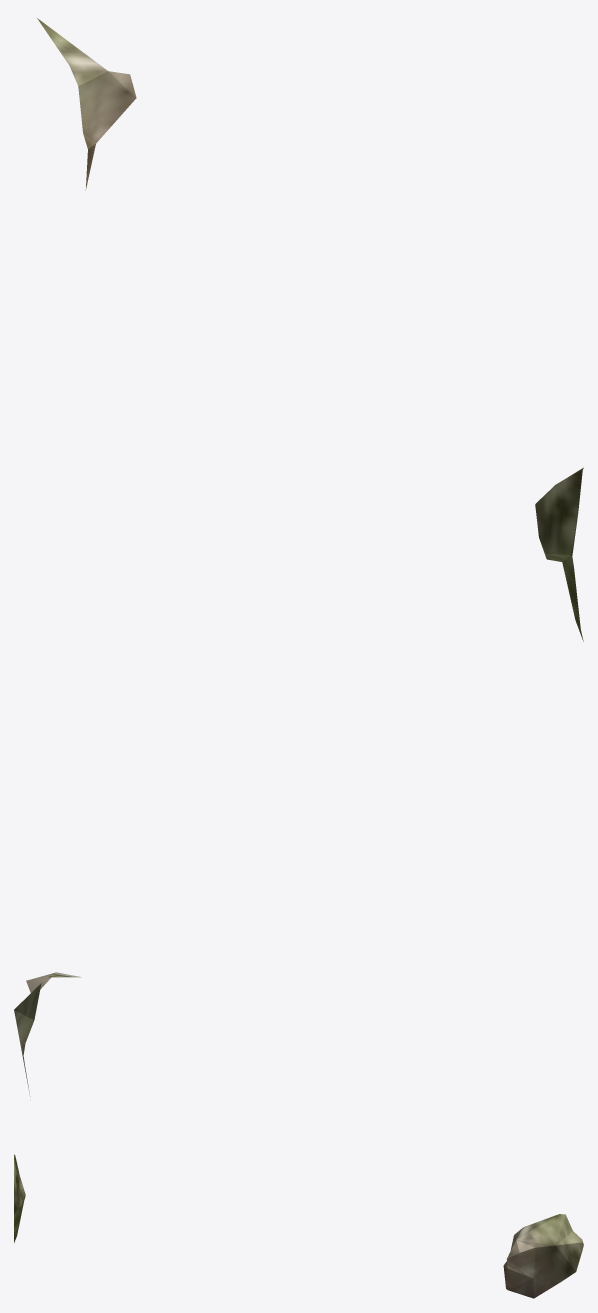
3 renders of one model, top to bottom at view 1: azimuth 30°, elevation 25°; view 2: azimuth 150°, elevation 25°; view 3: azimuth 270°, elevation 25°, orthographic. The views are drawn at different scales.
Bounding box in the file's own units: 0.239 × 1.07 × 3.81.
Materials: 1 (1 with a texture image).
